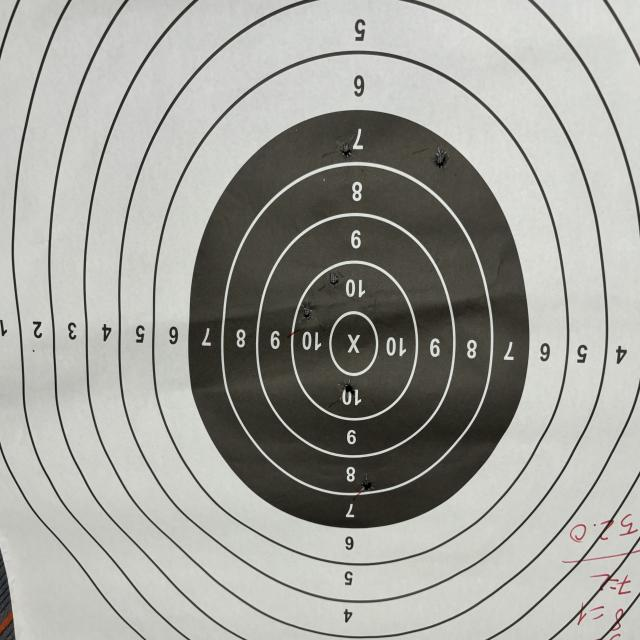bullet: (434, 147, 448, 169), (340, 144, 352, 156), (364, 480, 372, 492), (304, 308, 312, 320), (344, 380, 352, 388), (332, 276, 340, 284)
target: (0, 0, 640, 640)
